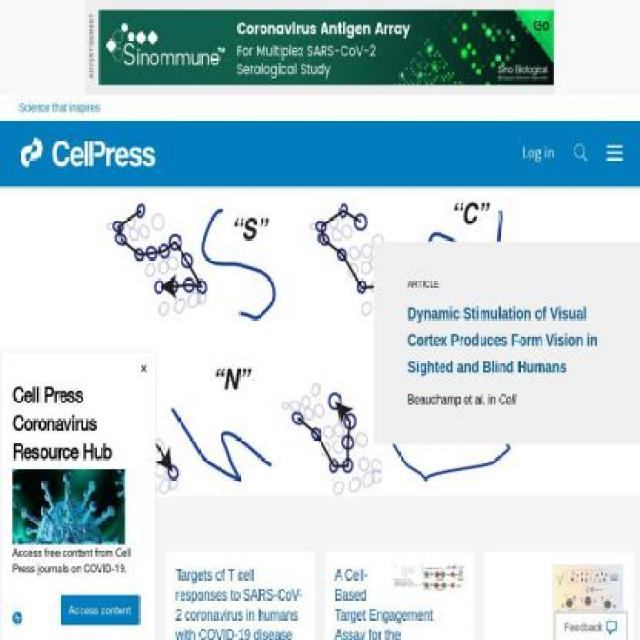button: (16, 566, 89, 640), (52, 139, 156, 167), (553, 612, 629, 639), (394, 565, 464, 592), (606, 141, 623, 165)
